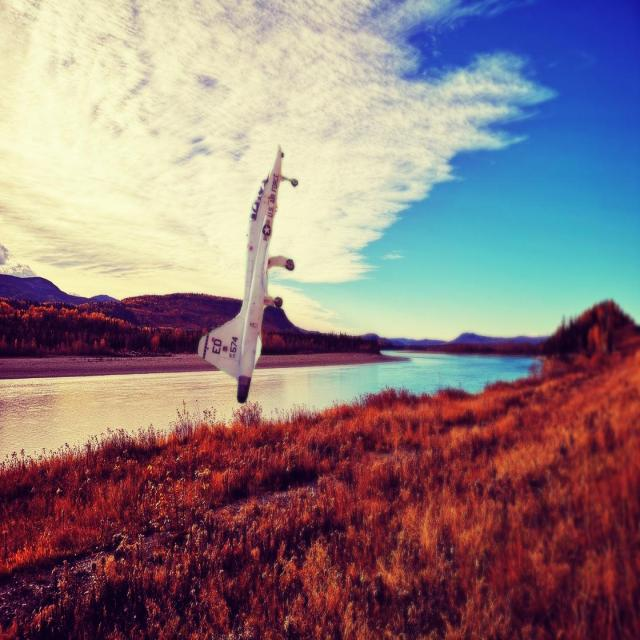airplane: (197, 144, 299, 403)
